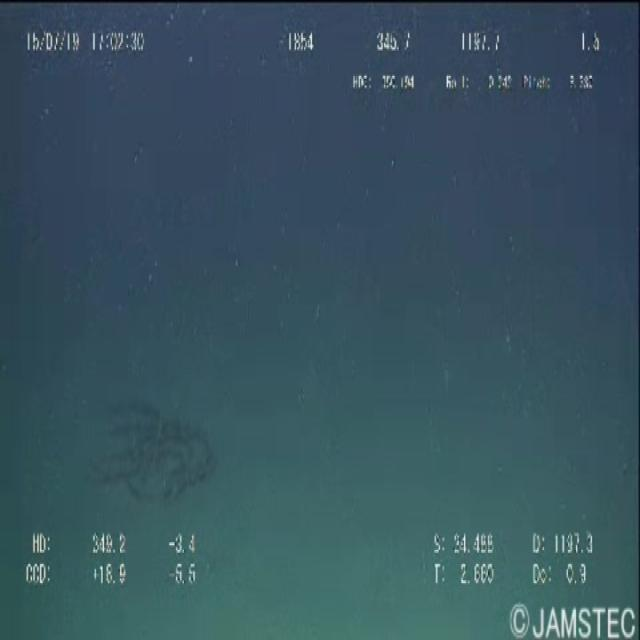Rope: (69, 368, 234, 542)
